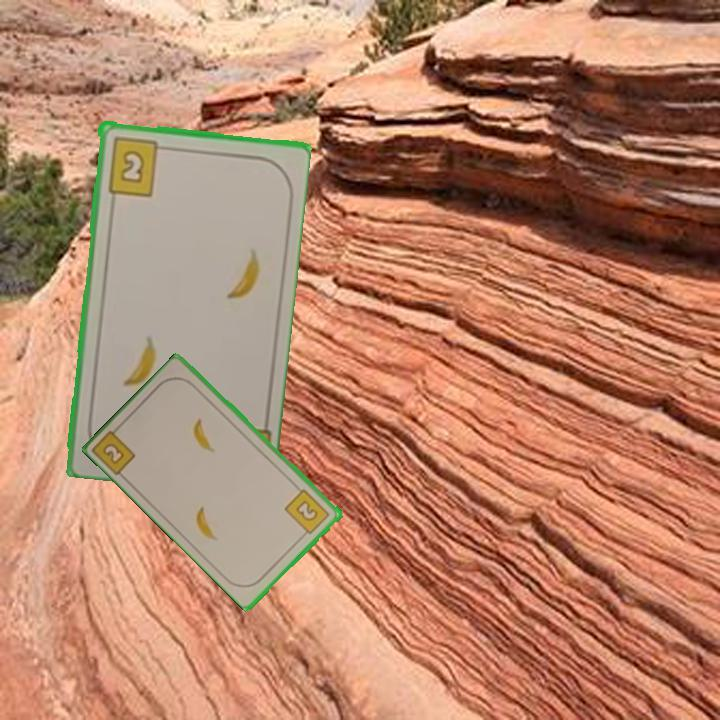2b: (104, 133, 170, 198), (281, 485, 333, 540), (91, 420, 139, 478)
